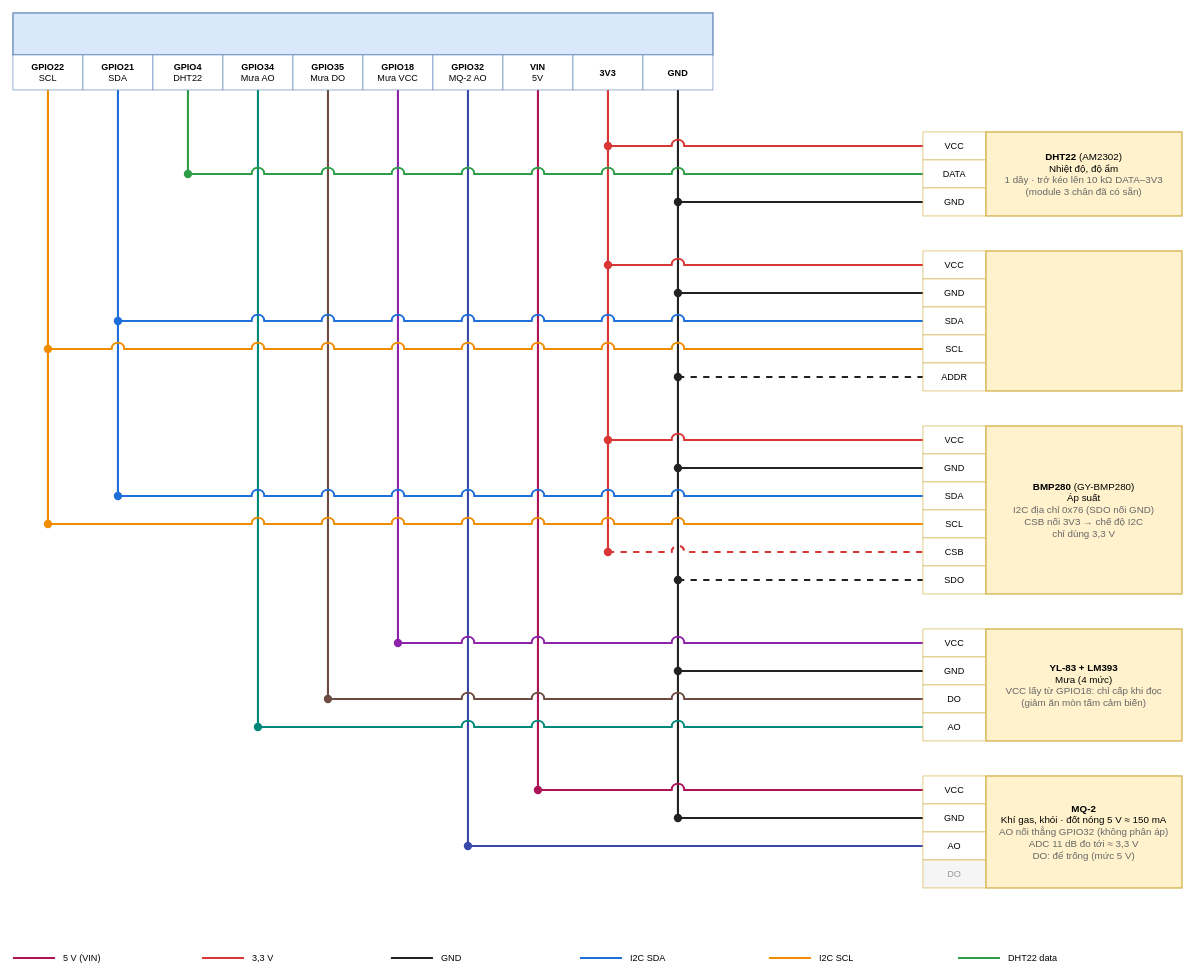
This 1195x979 diagram has some shape labels left out. Here are the shapes that lost their labels. From the top down, the centre of each, then its label:
At (362,33): "ESP32 DevKit V1 (ESP32-WROOM-32) · Trang 1/2 — Cảm biến".
At (1083,320): "BH1750 (GY-302) Cường độ ánh sáng I2C địa chỉ 0x23 (ADDR nối GND)".
